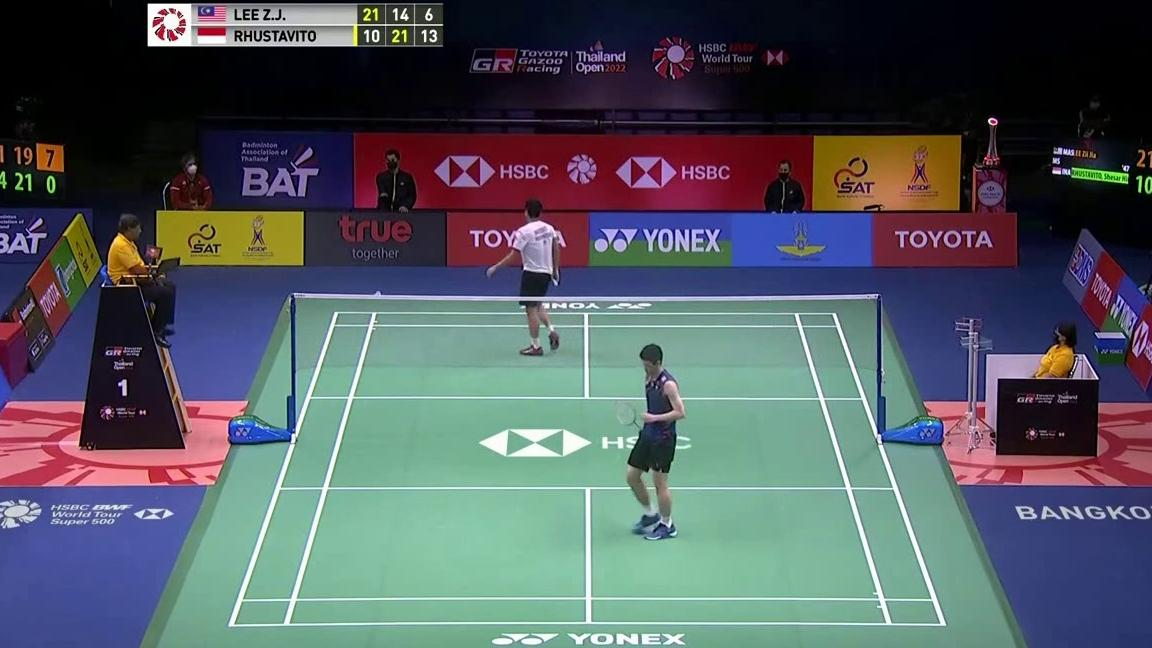racket: (615, 401, 644, 432), (550, 275, 559, 288)
shuttle: (375, 290, 382, 298)
